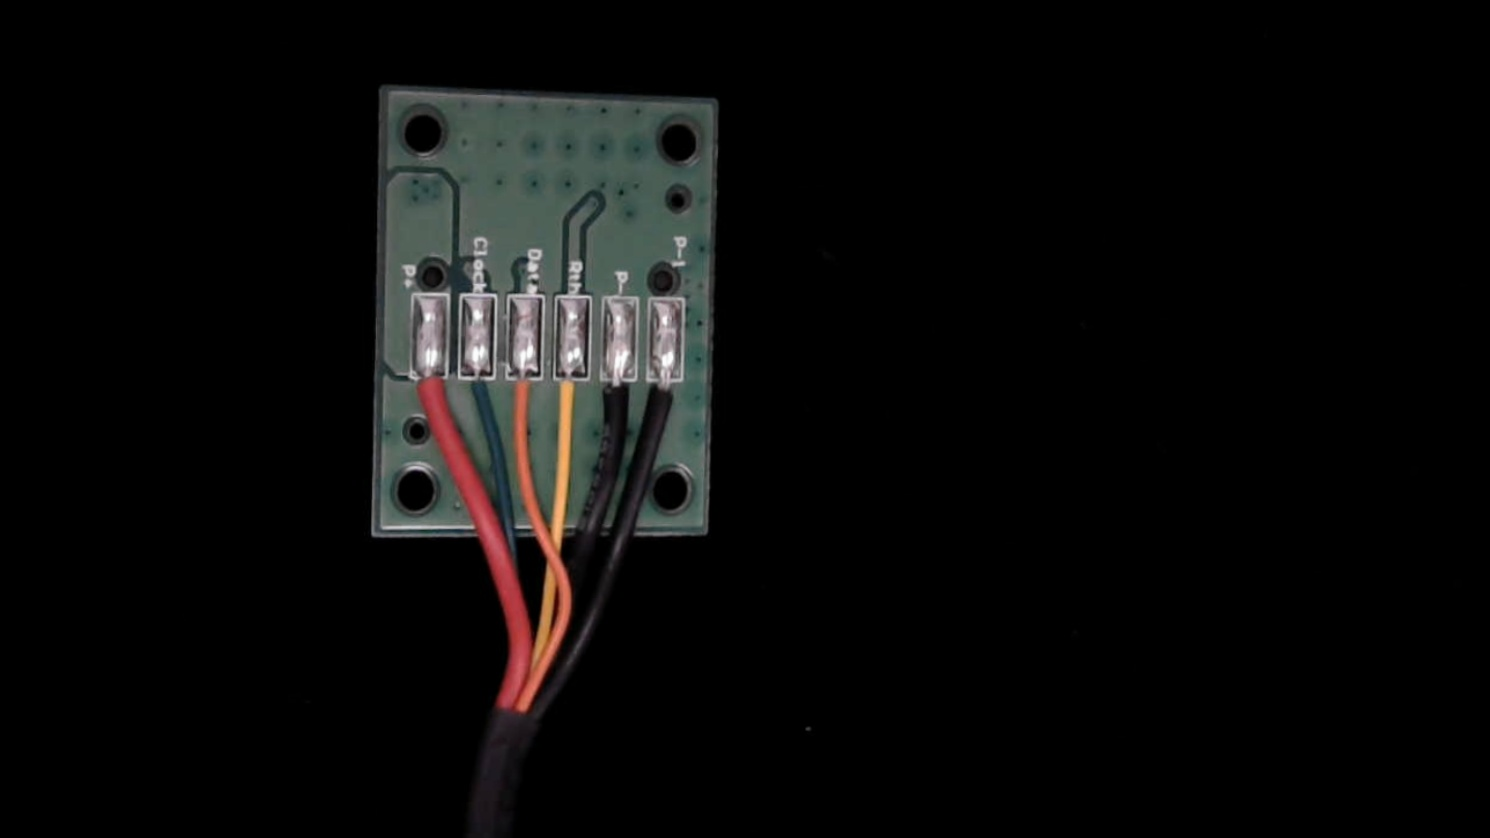Black: (599, 356, 638, 442)
Black1: (642, 354, 685, 448)
Green: (457, 354, 500, 433)
Orange: (503, 356, 538, 440)
Red: (410, 357, 451, 433)
Yellow: (553, 354, 590, 441)
